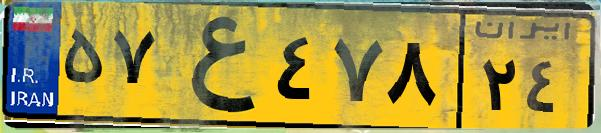2: (475, 38, 525, 113)
4: (270, 28, 330, 110), (525, 38, 570, 115)
5: (57, 26, 110, 100)
7: (330, 28, 385, 110), (110, 28, 158, 98)
8: (385, 28, 445, 110)
ع: (158, 12, 270, 120)
